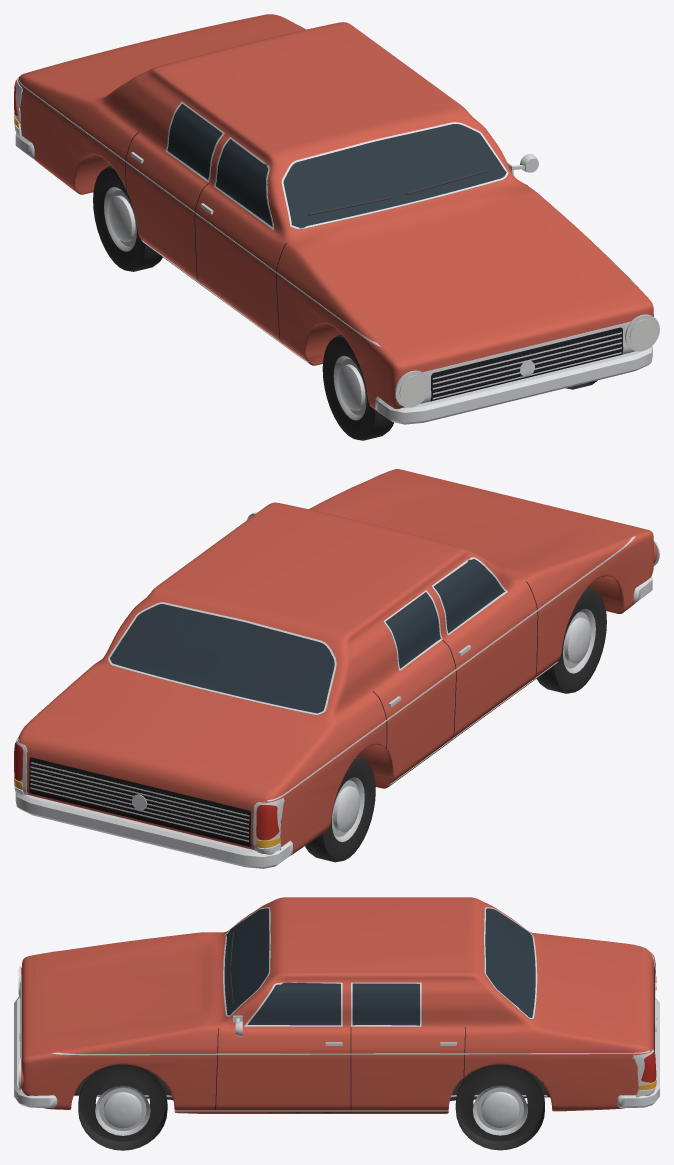
The model's file is valiant.glb.
The picture shows the model from 3 angles, top to bottom: view 1: azimuth 30°, elevation 25°; view 2: azimuth 150°, elevation 25°; view 3: azimuth 270°, elevation 25°; orthographic projection. The views are drawn at different scales.
Parts seen in each view (by area): view 1: paint, glass, trim, wheel_fr, wheel_rr, headlights; view 2: paint, glass, trim, wheel_fr, wheel_rr, taillights; view 3: paint, glass, trim, wheel_fl, wheel_rl, taillights.
Boxes of the visible parts, x1,y1,x2,y2 form: paint: (18,14,653,415); glass: (167,103,506,227); trim: (15,77,659,424); wheel_fr: (322,334,393,440); wheel_rr: (93,165,162,271); headlights: (399,319,656,403); paint: (17,469,653,856); glass: (110,559,504,713); trim: (15,474,659,868); wheel_fr: (537,587,606,693); wheel_rr: (305,756,375,862); taillights: (14,742,279,840); paint: (21,897,654,1113); glass: (224,908,535,1025); trim: (14,907,659,1112); wheel_fl: (78,1064,167,1150); wheel_rl: (455,1064,544,1150); taillights: (641,955,656,1082).
Size of the model in its own units: 1.88 by 1.36 by 4.63.
